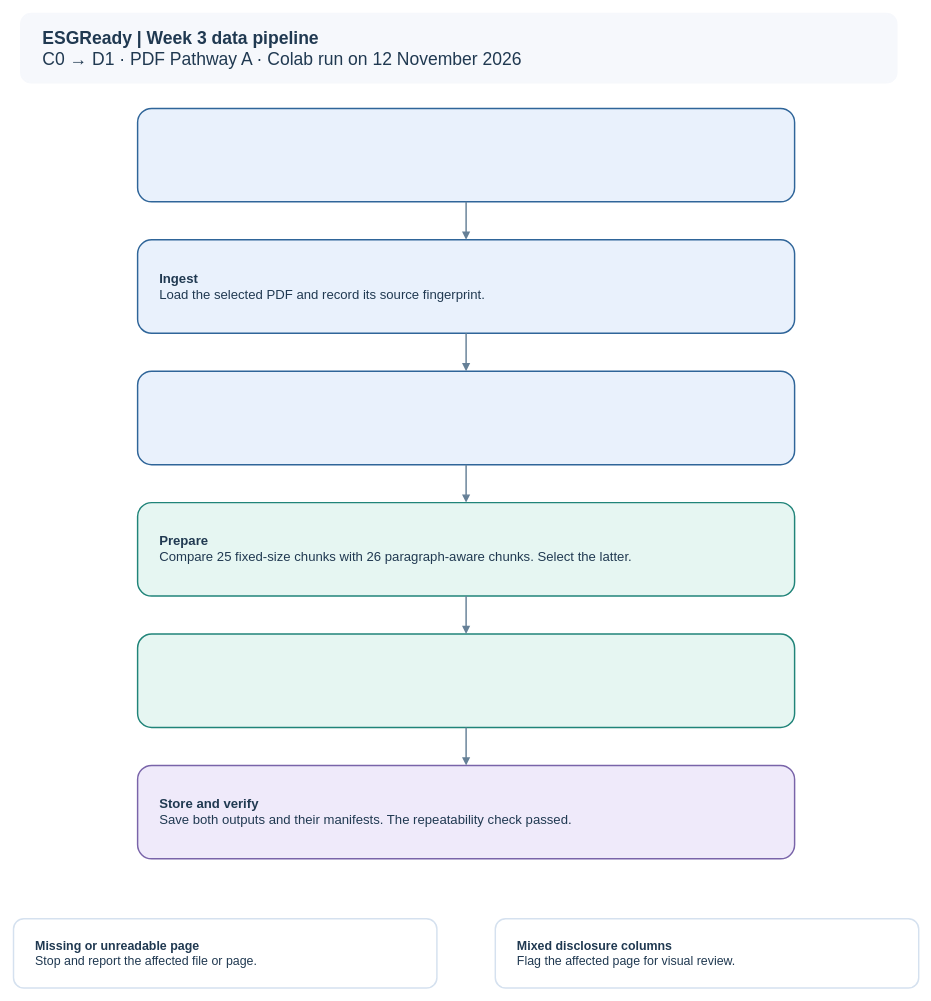
Some shapes in this 931 by 1001 pixel diagram are drawn without their labels. Here are the shapes that lost their labels. From the top down, the box of each, then its label:
(137, 107, 795, 202): Source K1 disclosure guidance · SEDG Version 2 · 82 physical pages
(137, 370, 795, 465): Inspect Select eight physical pages. Inspect sample text on pages 26 and 30.
(137, 633, 795, 728): Validate Check nonempty text, unique IDs, page labels, source role and hashes.
